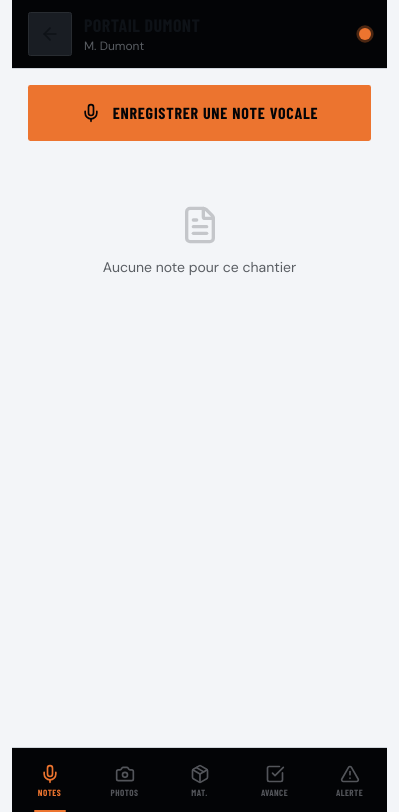
Test: Interface terrain (ouvrier) — viewport 375px › Navigation par onglets (page projet) › bascule vers Matériaux en 1 tap
Click the button with test id "tab-materiaux" at point(200, 780), box [162, 748, 237, 811]
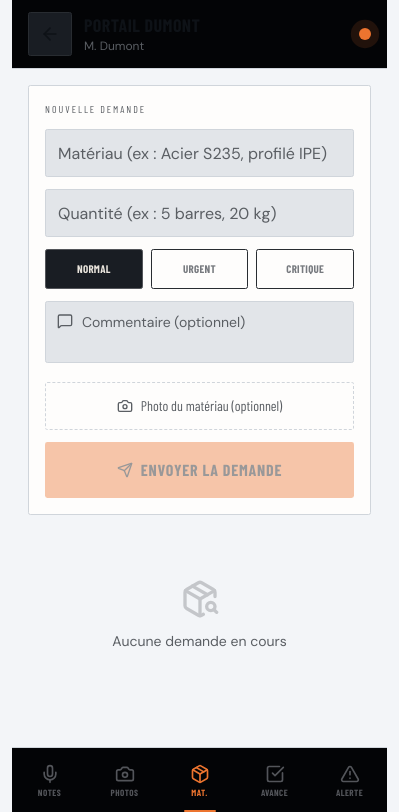
Check: the field with test id "materiau-label" is shown, box [45, 129, 354, 177]
